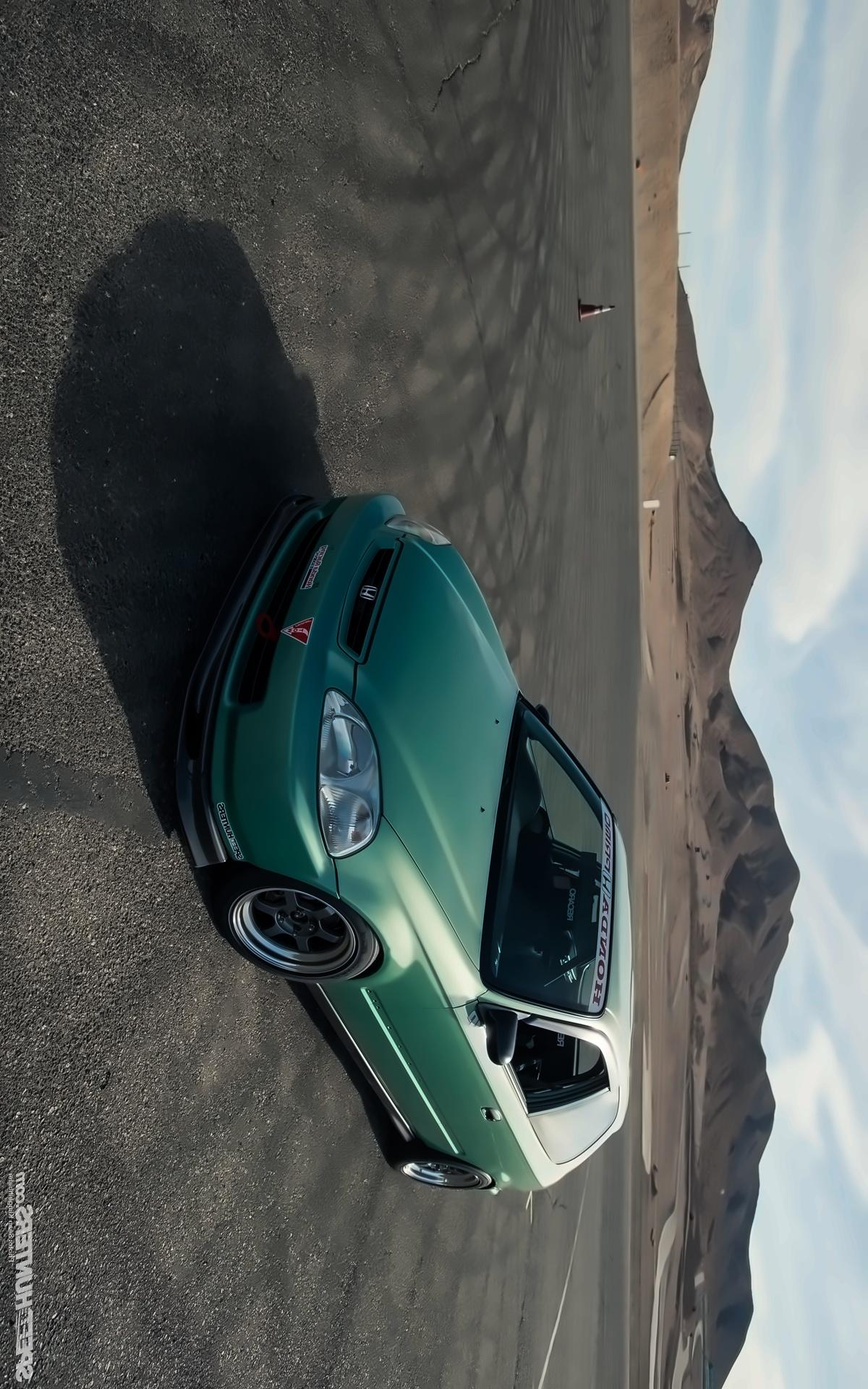Car hood: (347, 533, 521, 971)
Fender - -F-L-: (313, 816, 494, 1009)
Fender - -R-L-: (415, 1132, 548, 1195)
Front bumper: (164, 478, 368, 888)
Headlight - -L-: (314, 683, 389, 867)
Headlight - -R-: (378, 509, 456, 548)
Passenger-s door - -F-L-: (337, 1006, 623, 1122)
Side bumper - -L-: (293, 978, 419, 1154)
Side mirror - -L-: (467, 996, 528, 1075)
Side mirror - -R-: (533, 692, 567, 743)
